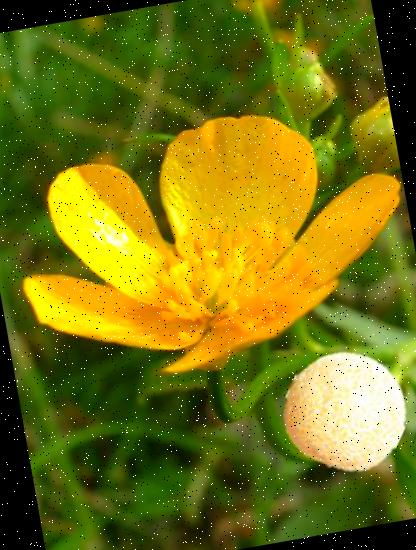Cantaloupe: (275, 340, 416, 482)
